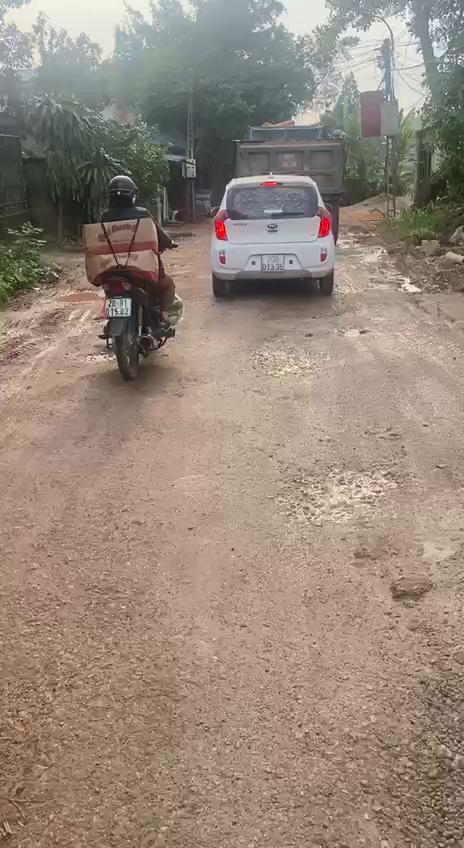pothole: (282, 458, 396, 524)
